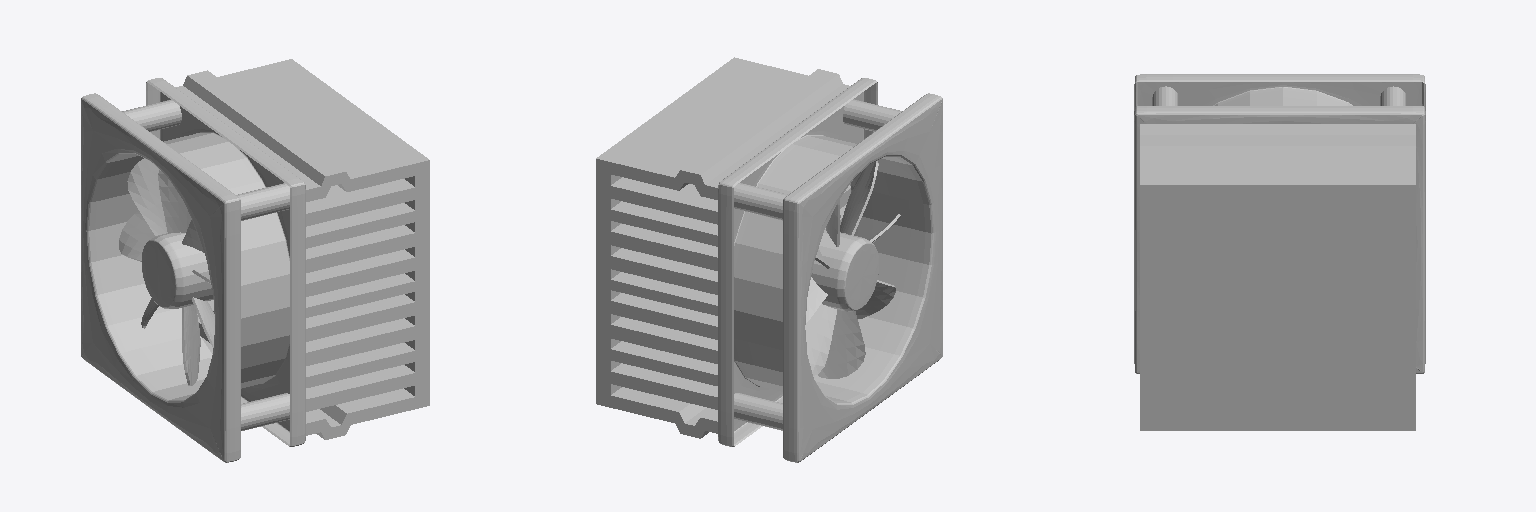
The model's file is CPU-Cooler.obj.
3 views of the same model, side by side, from view 1: azimuth 30°, elevation 25°; view 2: azimuth 150°, elevation 25°; view 3: azimuth 270°, elevation 25° (orthographic).
Parts seen in each view (by area): view 1: Circle155, Line039; view 2: Circle155, Line039; view 3: Line039, Circle155.
Boxes of the visible parts, x1,y1,x2,y2 form: Circle155: [81, 78, 305, 462]; Line039: [175, 59, 429, 439]; Circle155: [718, 78, 942, 462]; Line039: [596, 57, 850, 438]; Line039: [1140, 124, 1415, 430]; Circle155: [1134, 74, 1425, 373].
Size of the model in its own units: 6.46 by 7.89 by 7.86.